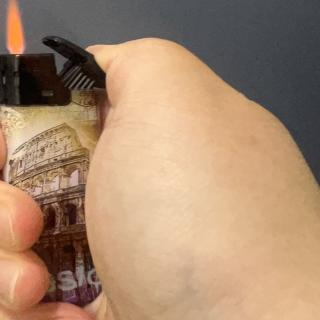fire: (3, 0, 27, 54)
